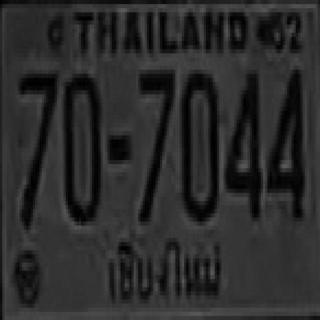N00: (61, 70, 99, 222), (180, 68, 217, 219)
N04: (265, 66, 302, 217), (224, 68, 261, 215)
N07: (18, 70, 55, 226), (138, 66, 173, 222)
P11: (99, 233, 225, 308)
